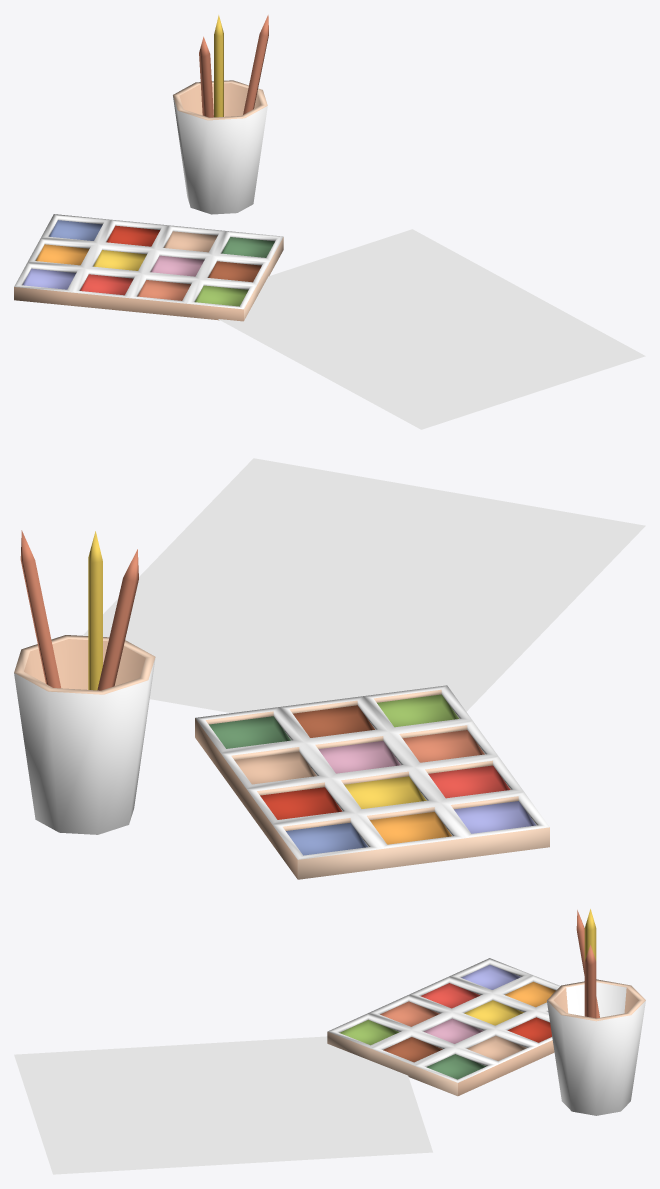
File: watercolor.obj
3 views of the same model, one above another, from view 1: azimuth 30°, elevation 25°; view 2: azimuth 150°, elevation 25°; view 3: azimuth 270°, elevation 25° (orthographic). The views are drawn at different scales.
Visible parts, largest first — view 1: Plane007, watercolor, Cylinder006, Cylinder007, Cylinder008, Cylinder009; view 2: Plane007, watercolor, Cylinder006, Cylinder008, Cylinder009, Cylinder007; view 3: Plane007, watercolor, Cylinder006, Cylinder008, Cylinder007.
Boxes of the visible parts, <box> form: Plane007: <box>218,229,645,429</box>; watercolor: <box>14,214,283,321</box>; Cylinder006: <box>173,80,267,214</box>; Cylinder007: <box>214,15,223,117</box>; Cylinder008: <box>243,15,268,114</box>; Cylinder009: <box>199,36,213,117</box>; Plane007: <box>83,458,645,712</box>; watercolor: <box>195,685,549,879</box>; Cylinder006: <box>14,635,155,834</box>; Cylinder008: <box>20,530,60,688</box>; Cylinder009: <box>97,549,138,690</box>; Cylinder007: <box>88,531,102,690</box>; Plane007: <box>14,1036,432,1174</box>; watercolor: <box>327,958,560,1096</box>; Cylinder006: <box>547,979,645,1115</box>; Cylinder008: <box>584,945,596,1018</box>; Cylinder007: <box>584,909,596,961</box>.
Size of the model in its own units: 15.06 by 6.56 by 19.68.
